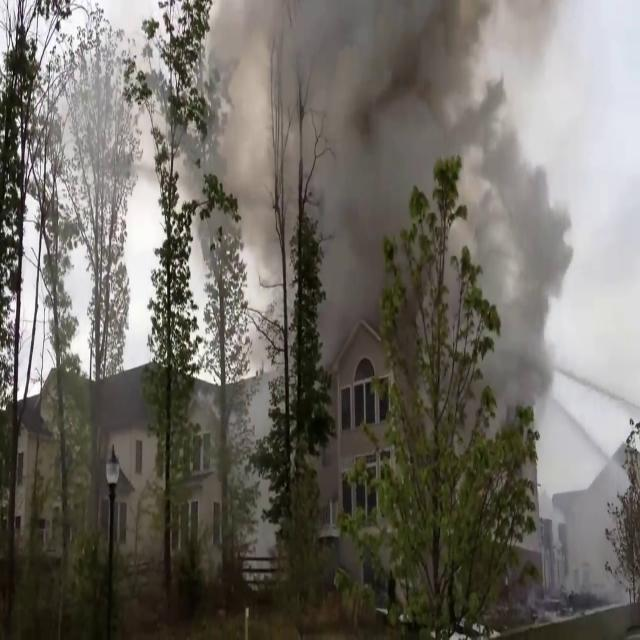Smoke: (203, 0, 575, 399)
